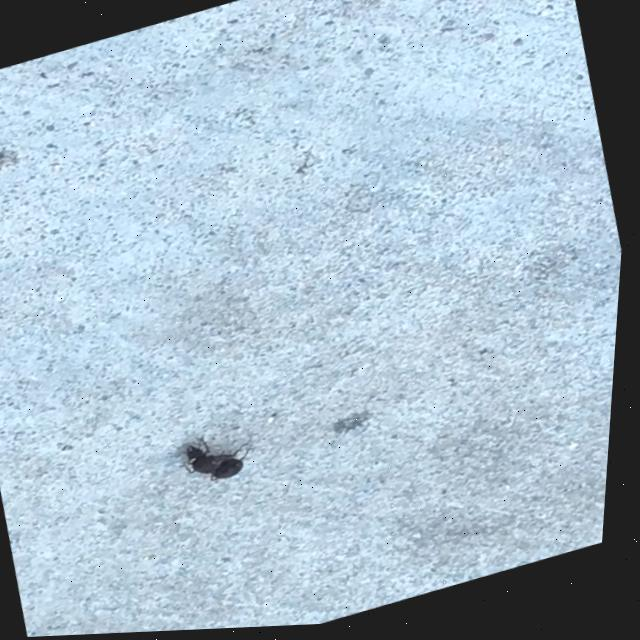Alive-Female-Dealate: (179, 424, 265, 493)
